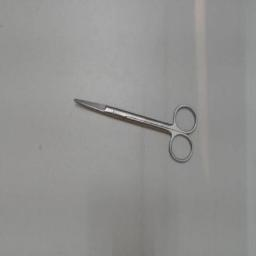Curved Mayo Scissors: (72, 96, 200, 166)
